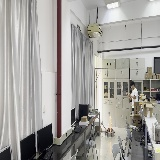fire: (107, 113, 112, 132)
